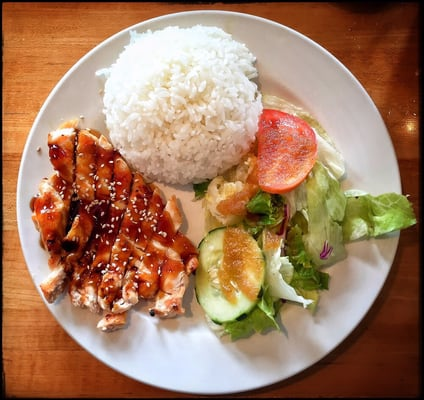curry: (5, 3, 419, 394)
